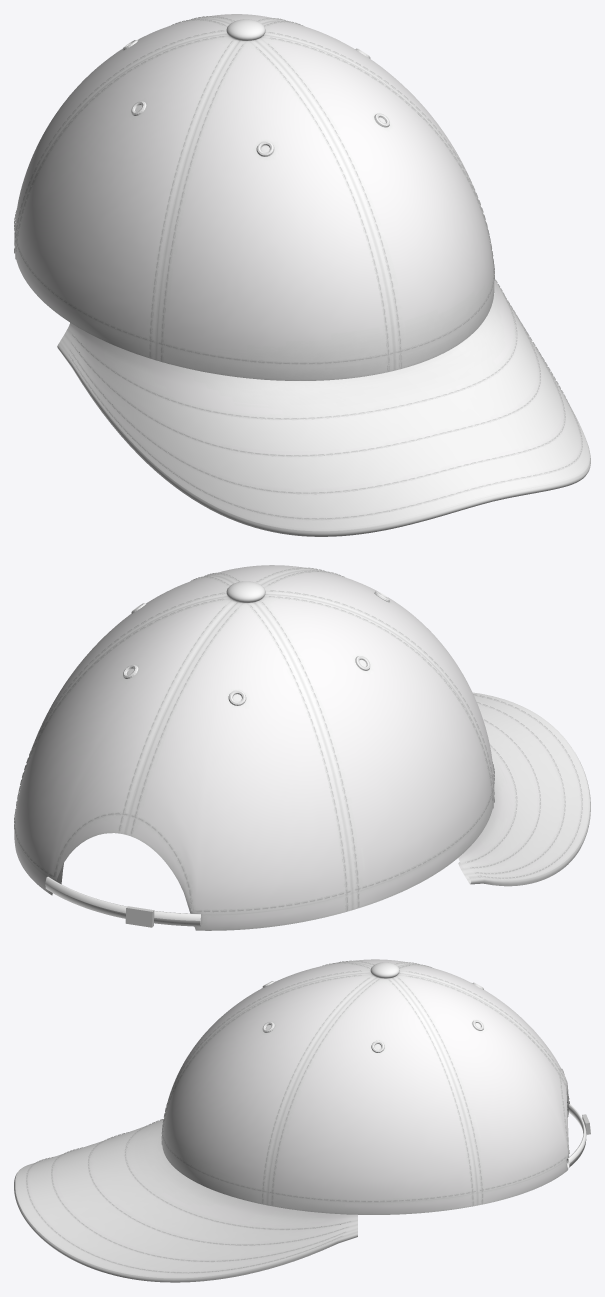
File: dad-hat.glb
3 renders of one model, top to bottom at view 1: azimuth 30°, elevation 25°; view 2: azimuth 150°, elevation 25°; view 3: azimuth 270°, elevation 25°, orthographic. The views are drawn at different scales.
Visible parts, largest first — view 1: frente, aba, laterais, traseira, costura-aba, aba__beirada, costura-frente, costura-laterais, costura-traseira, botao; view 2: traseira, laterais, aba, frente, costura-traseira, costura-laterais, costura-aba, traseira__tira, costura-frente, aba__beirada, botao, fixo__fivela; view 3: laterais, aba, frente, traseira, costura-aba, aba__beirada, costura-frente, costura-traseira, costura-laterais, traseira__tira.
Part boxes in pixels (box(x1,y1,x2,y2)): frente: box(156, 35, 494, 380); aba: box(58, 279, 589, 531); laterais: box(16, 20, 486, 360); traseira: box(14, 14, 284, 253); costura-aba: box(68, 279, 582, 519); aba__beirada: box(57, 344, 590, 536); costura-frente: box(159, 37, 494, 370); costura-laterais: box(15, 21, 492, 357); costura-traseira: box(14, 16, 288, 253); botao: box(226, 19, 265, 40); traseira: box(14, 596, 352, 930); laterais: box(20, 576, 492, 909); aba: box(458, 692, 589, 880); frente: box(206, 565, 494, 802); costura-traseira: box(14, 598, 350, 912); costura-laterais: box(16, 576, 493, 906); costura-aba: box(466, 694, 582, 879); traseira__tira: box(45, 876, 200, 926); costura-frente: box(204, 567, 494, 802); aba__beirada: box(470, 758, 590, 886); botao: box(226, 581, 265, 602); fixo__fivela: box(125, 906, 154, 927); laterais: box(267, 959, 477, 1214); aba: box(15, 1120, 357, 1278); frente: box(162, 962, 376, 1205); traseira: box(392, 964, 568, 1205); costura-aba: box(26, 1119, 350, 1273); aba__beirada: box(14, 1173, 357, 1282); costura-frente: box(161, 962, 369, 1203); costura-traseira: box(398, 964, 569, 1203); costura-laterais: box(270, 960, 475, 1205); traseira__tira: box(566, 1104, 586, 1167).
Size of the model in its own units: 1.7 by 1.32 by 2.74.
Materials: 10 (6 with a texture image).
